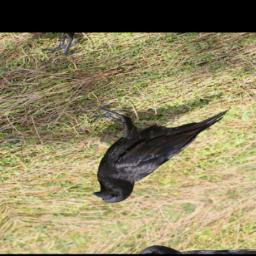Crow: (47, 72, 256, 208)
